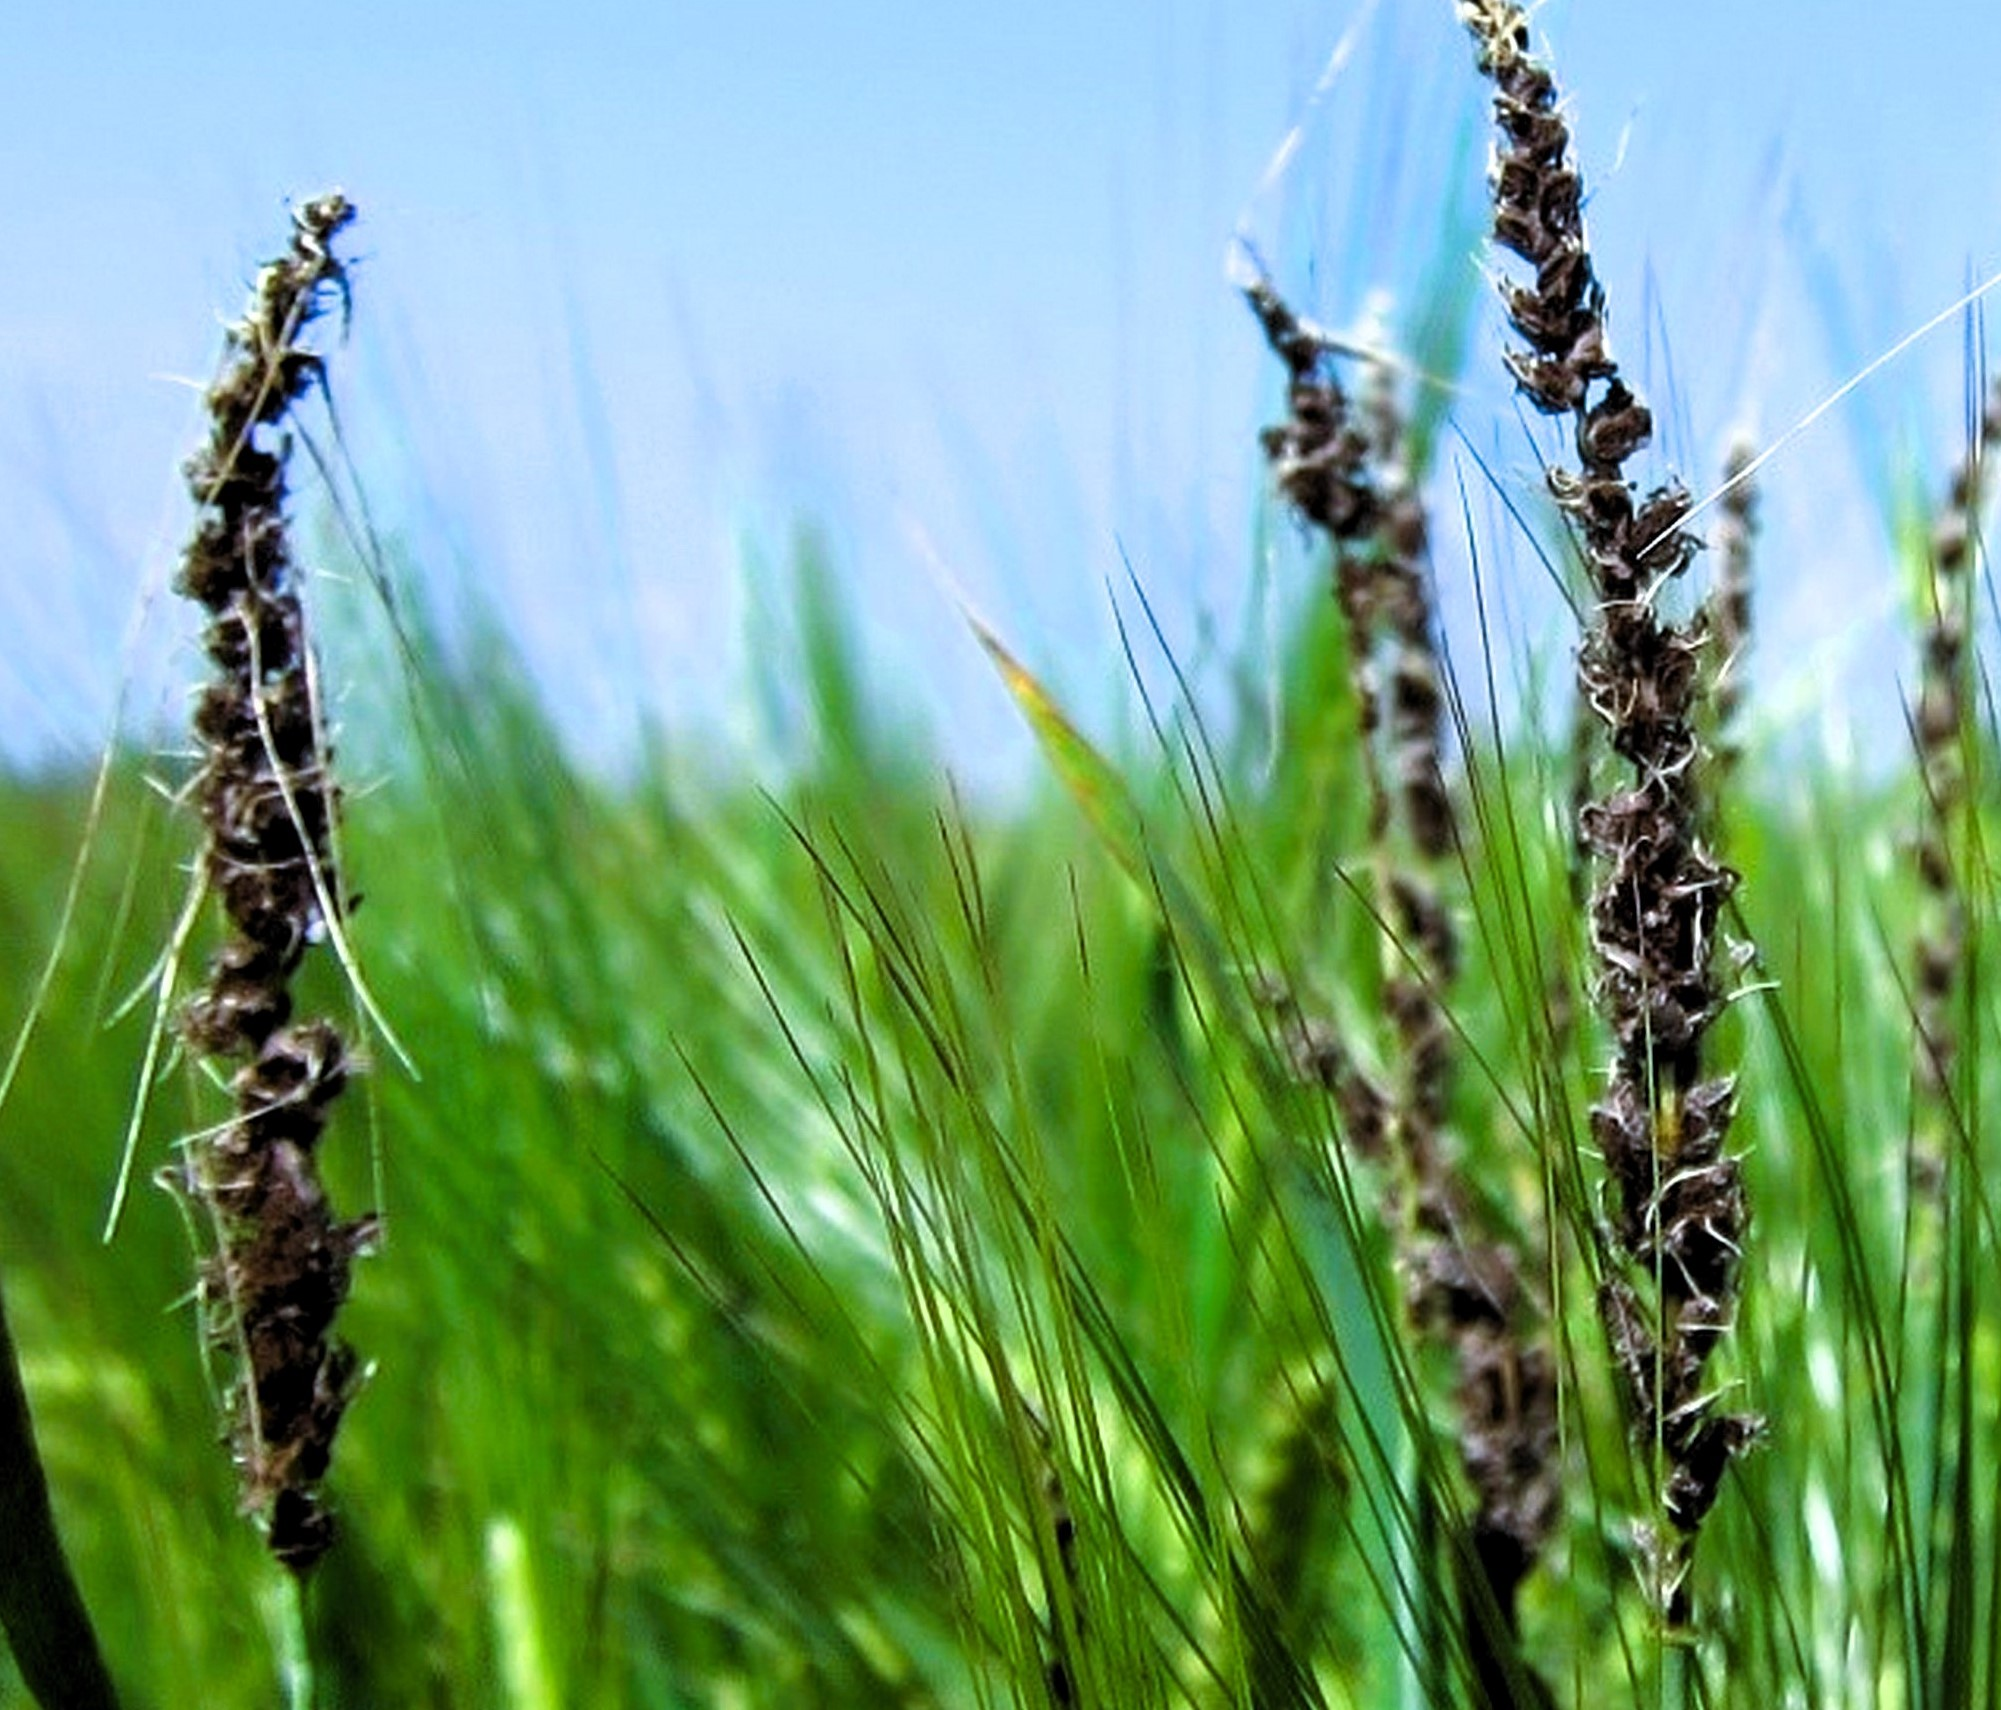Wheat Loose Smut: (98, 212, 415, 1517)
